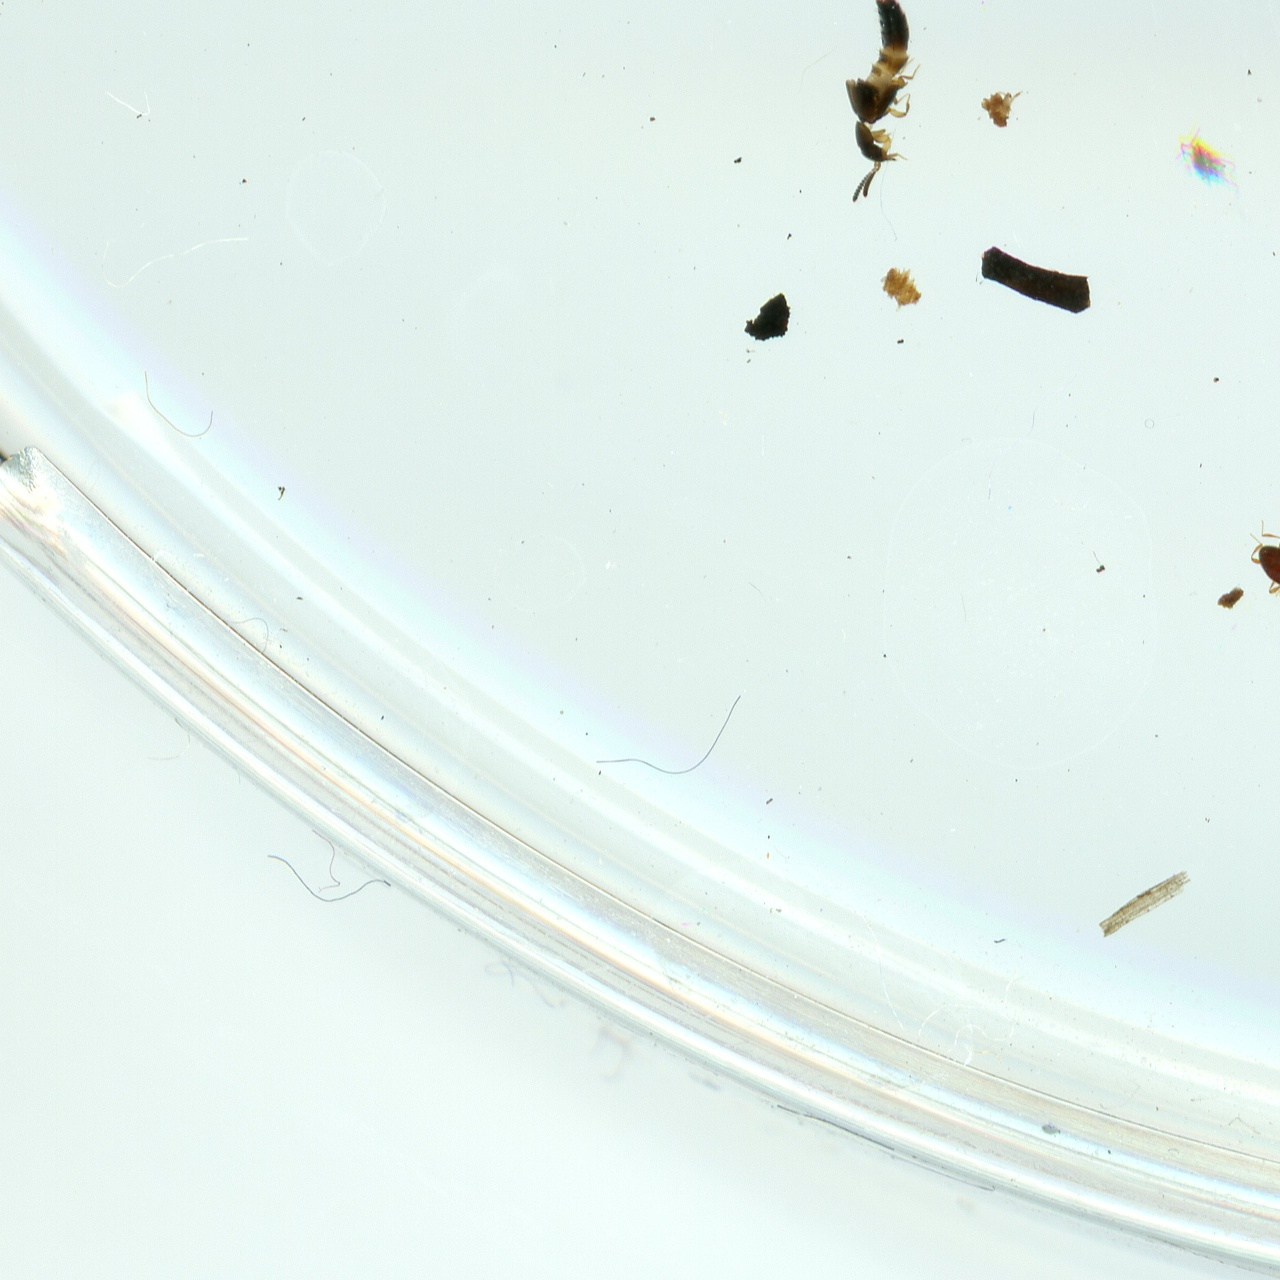arthropod: (842, 0, 924, 208), (1228, 505, 1280, 642)
